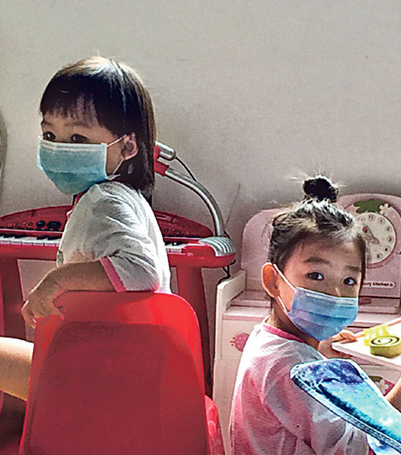face_mask: (279, 233, 361, 343), (39, 90, 117, 194)
